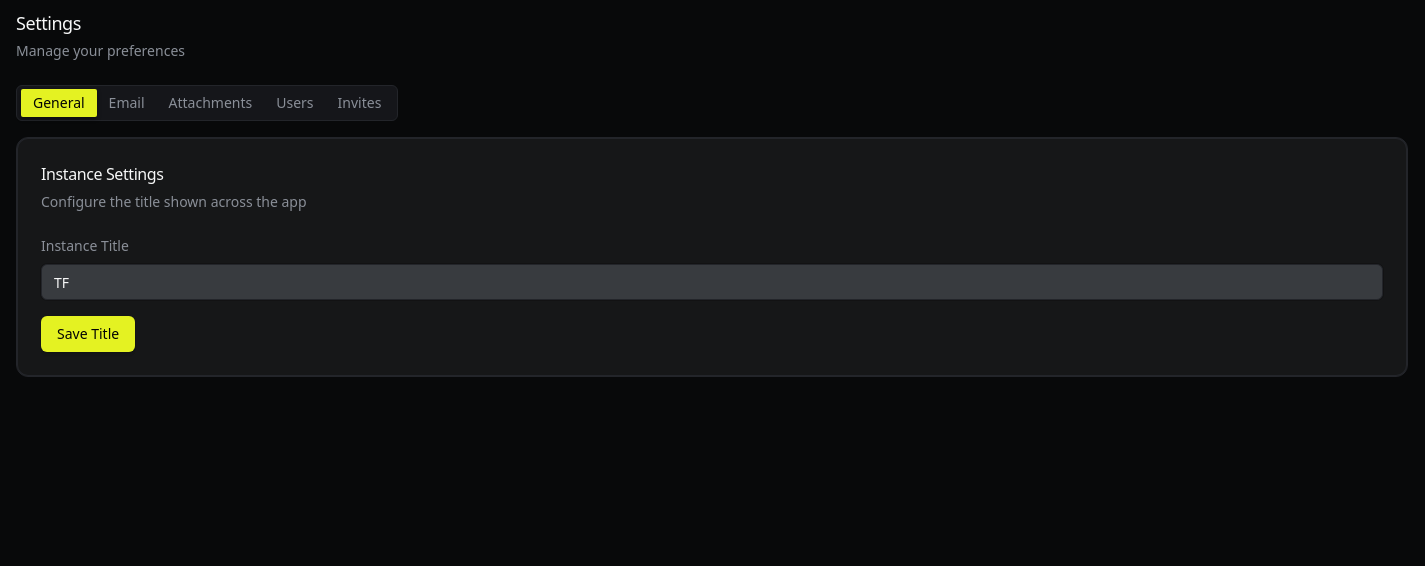
Test: SettingsPage Attachments tab › rejects an empty MIME type list and does not save
Click the tab "Attachments" at (210, 103), box [157, 89, 264, 117]
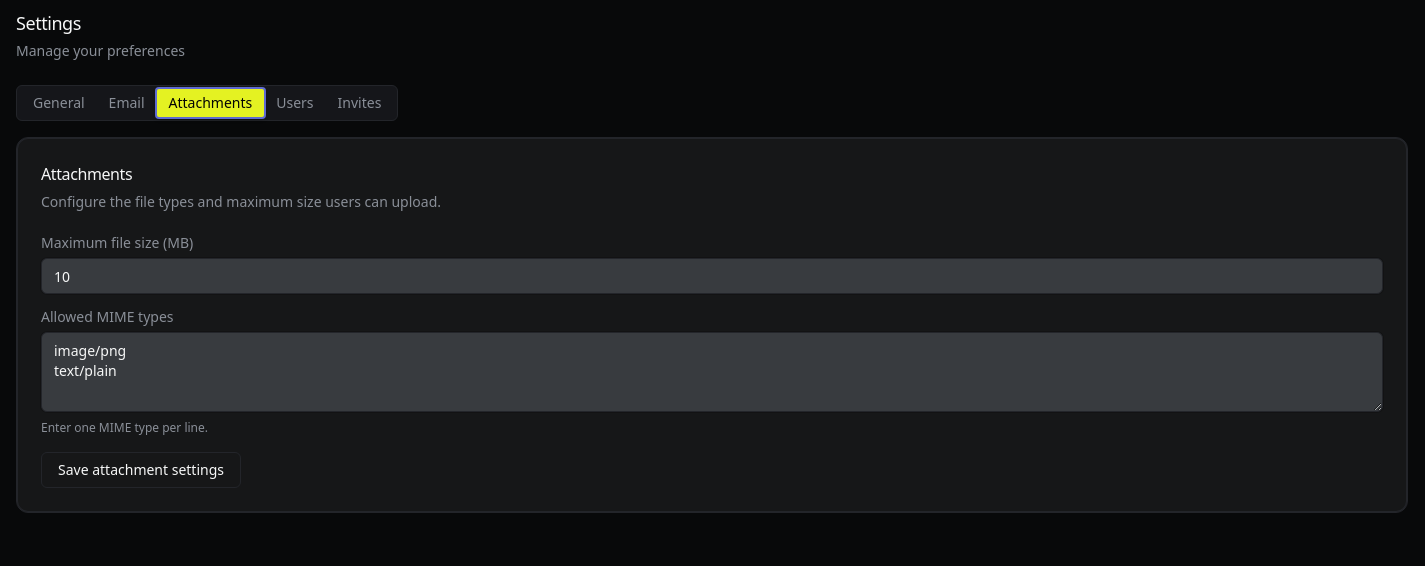
Clear the text box labelled "Allowed MIME types" at (712, 372), box [41, 332, 1383, 412]
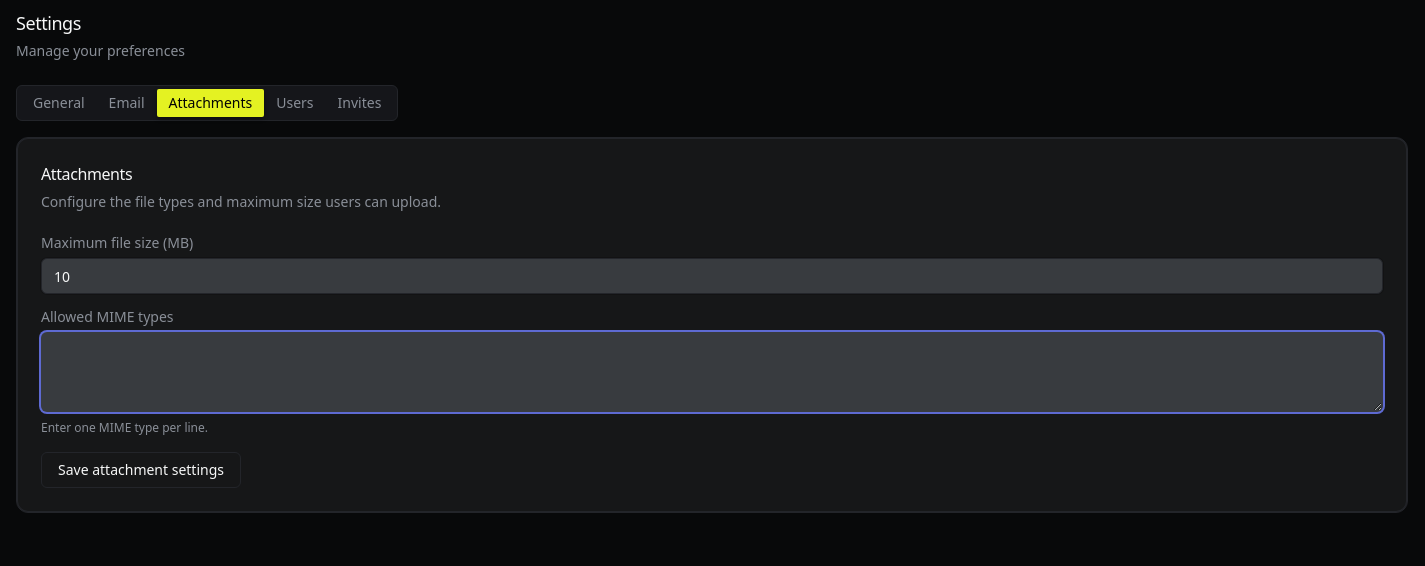
Click the button "Save attachment settings" at (141, 470), box [41, 452, 241, 488]
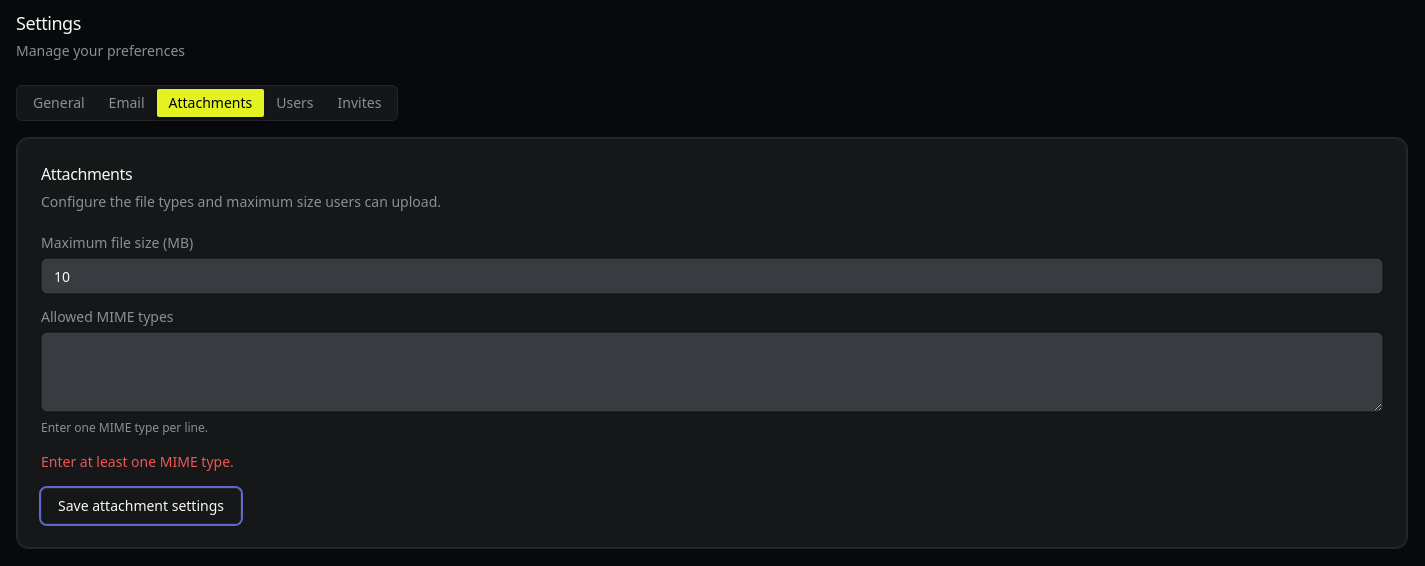
Result: the message reads "Enter at least one MIME type." at [41, 452, 234, 471]
